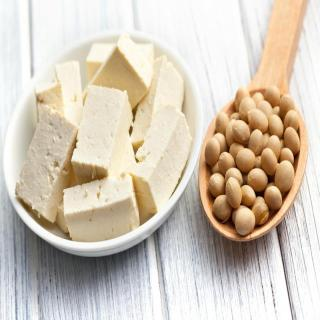Tahu: (6, 37, 190, 236)
